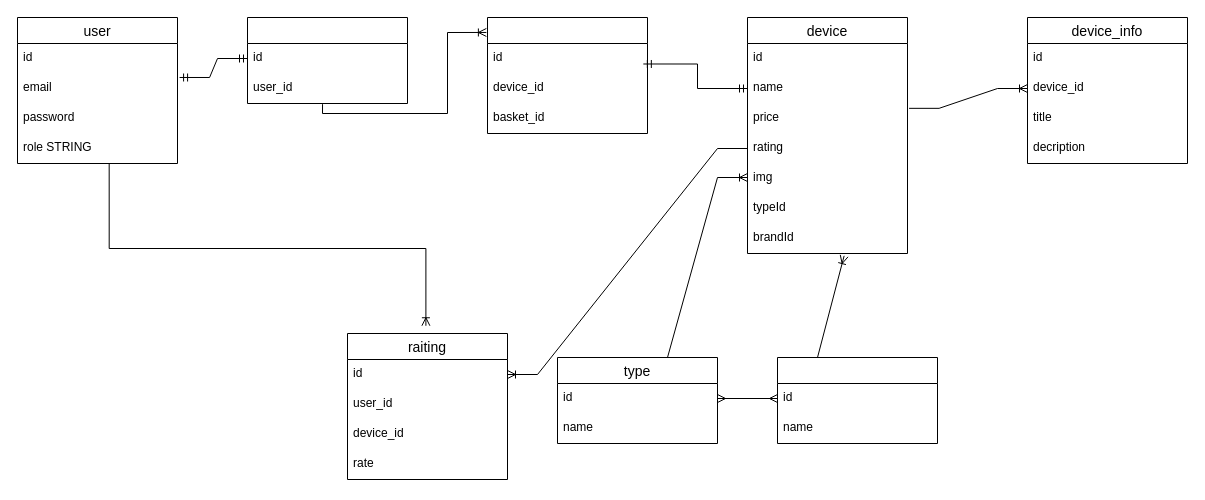
The diagram is 1205 pixels wide and 500 high, and some of its shapes have lost their labels. The box of each missing label's shape, as (x1, y1, x2, y2) in pixels:
basket: (246, 16, 408, 104)
basket_device: (486, 16, 648, 134)
brand: (776, 356, 938, 444)
